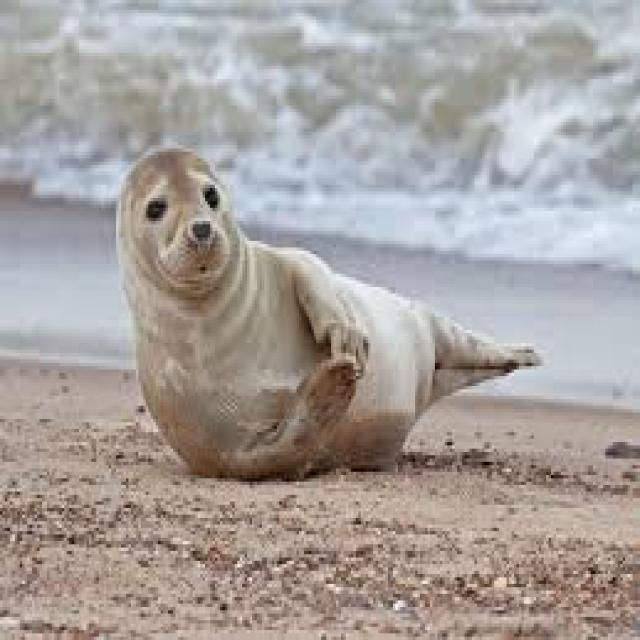seal: (116, 145, 539, 475)
